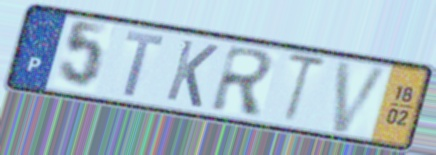5: (58, 17, 109, 95)
K: (162, 37, 222, 111)
R: (207, 43, 278, 119)
T: (278, 50, 332, 128), (120, 28, 168, 100)
V: (329, 58, 393, 136)
